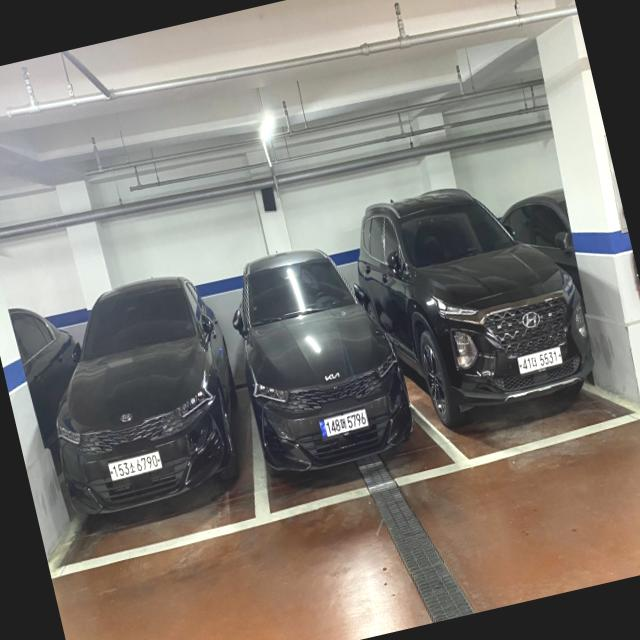car: (367, 162, 597, 427), (25, 266, 244, 524), (221, 228, 424, 488)
